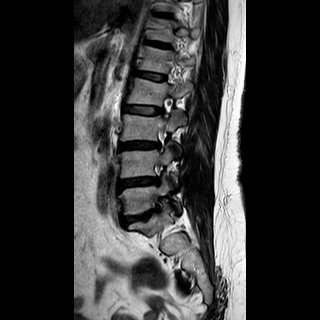RFS0: (153, 90, 177, 124)
RFS1: (150, 125, 175, 156)
RFS2: (145, 158, 171, 193)
